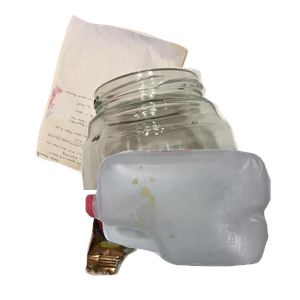glass: (74, 65, 300, 245)
paper: (33, 12, 214, 192)
plastic: (83, 147, 300, 300)
trash: (83, 160, 233, 300)
